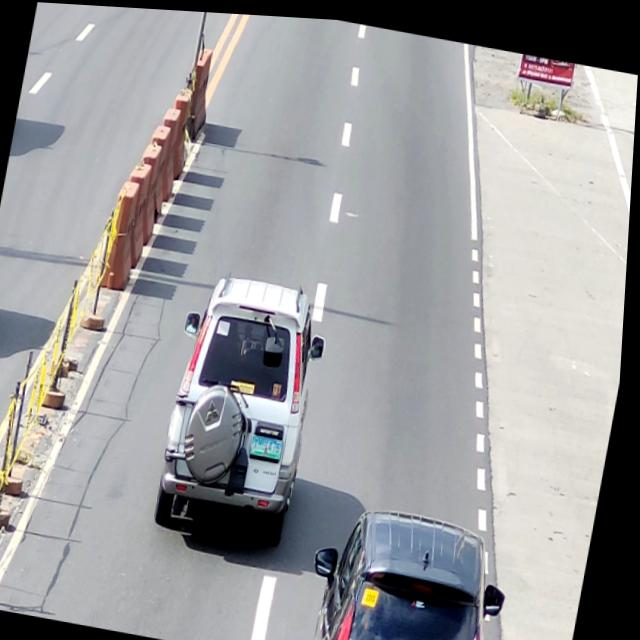Car: (153, 261, 339, 547), (302, 491, 524, 640)
License-Plate: (253, 428, 289, 458)
